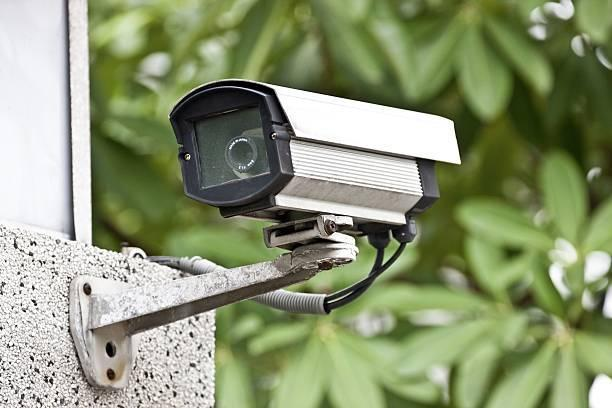camera: (144, 45, 479, 279)
